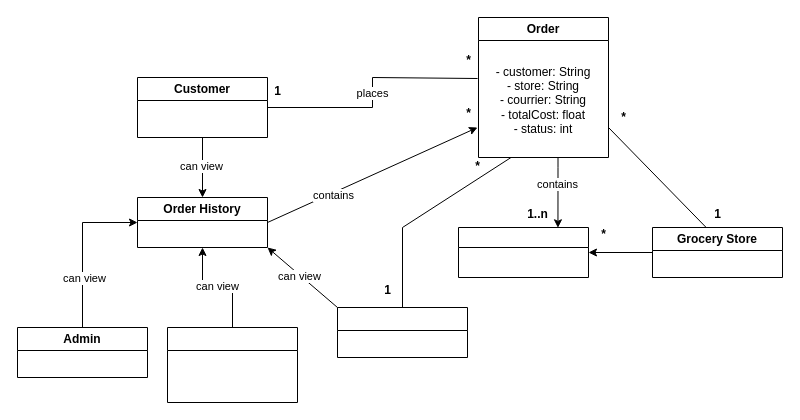
The diagram is 800 pixels wide and 420 high, and some of its shapes have lost their labels. The centre of each missing label's shape, as x and y in pixels:
Courrier: point (402, 332)
Product: point (523, 252)
Staff: point (232, 364)
